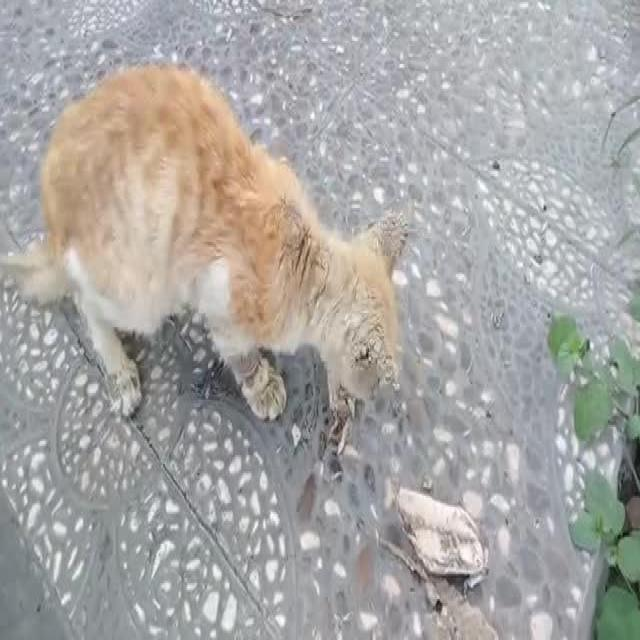ghe: (346, 311, 391, 408)
